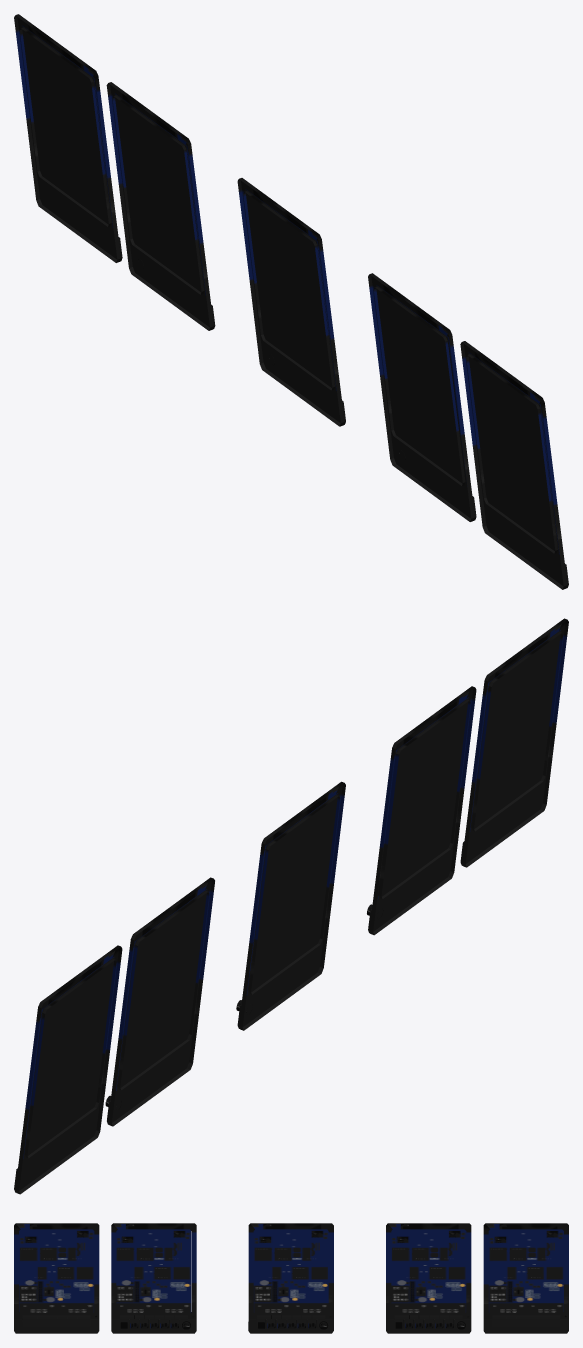
The model's file is screens.obj.
3 renders of one model, top to bottom at view 1: azimuth 30°, elevation 25°; view 2: azimuth 150°, elevation 25°; view 3: azimuth 270°, elevation 25°, orthographic. The views are drawn at different scales.
Parts seen in each view (by area): view 1: MFD1_Screen_Off_MFD1_Screen_Off.mesh, MFD2_Screen_Off_MFD2_Screen_Off.mesh, PFD1_Screen_Off_PFD1_Screen_Off.mesh, PFD2_Screen_Off_PFD2_Screen_Off.mesh, EICAS_Screen_Off_EICAS_Screen_Off.mesh, PFD1_Frame_PFD1_Frame.mesh, EICAS_Frame_EICAS_Frame.mesh, PFD2_Frame_PFD2_Frame.mesh, MFD2_Frame_MFD2_Frame.mesh, MFD1_Frame_MFD1_Frame.mesh; view 2: EICAS_Screen_Off_EICAS_Screen_Off.mesh, PFD2_Screen_Off_PFD2_Screen_Off.mesh, PFD1_Screen_Off_PFD1_Screen_Off.mesh, MFD2_Screen_Off_MFD2_Screen_Off.mesh, MFD1_Screen_Off_MFD1_Screen_Off.mesh, MFD1_Frame_MFD1_Frame.mesh, PFD1_Frame_PFD1_Frame.mesh, PFD2_Frame_PFD2_Frame.mesh, MFD2_Frame_MFD2_Frame.mesh, EICAS_Frame_EICAS_Frame.mesh; view 3: PFD2_Screen_PFD2_Screen.mesh, PFD1_Screen_PFD1_Screen.mesh, MFD2_Screen_MFD2_Screen.mesh, EICAS_Screen_EICAS_Screen.mesh, MFD1_Screen_MFD1_Screen.mesh, PFD1_Frame_PFD1_Frame.mesh, PFD2_Frame_PFD2_Frame.mesh, MFD2_Frame_MFD2_Frame.mesh, MFD1_Frame_MFD1_Frame.mesh, EICAS_Frame_EICAS_Frame.mesh.
Part boxes in pixels (x1,y1,x2,y2): MFD1_Screen_Off_MFD1_Screen_Off.mesh: (376,285,466,487); MFD2_Screen_Off_MFD2_Screen_Off.mesh: (114,93,205,295); PFD1_Screen_Off_PFD1_Screen_Off.mesh: (467,352,558,554); PFD2_Screen_Off_PFD2_Screen_Off.mesh: (21,25,112,227); EICAS_Screen_Off_EICAS_Screen_Off.mesh: (245,189,335,391); PFD1_Frame_PFD1_Frame.mesh: (460,341,568,589); EICAS_Frame_EICAS_Frame.mesh: (237,178,345,426); PFD2_Frame_PFD2_Frame.mesh: (14,14,122,262); MFD2_Frame_MFD2_Frame.mesh: (106,82,215,330); MFD1_Frame_MFD1_Frame.mesh: (368,273,476,521); EICAS_Screen_Off_EICAS_Screen_Off.mesh: (247,793,338,995); PFD2_Screen_Off_PFD2_Screen_Off.mesh: (24,957,114,1158); PFD1_Screen_Off_PFD1_Screen_Off.mesh: (470,630,561,832); MFD2_Screen_Off_MFD2_Screen_Off.mesh: (117,889,207,1090); MFD1_Screen_Off_MFD1_Screen_Off.mesh: (378,697,469,899); MFD1_Frame_MFD1_Frame.mesh: (368,686,476,935); PFD1_Frame_PFD1_Frame.mesh: (460,618,568,867); PFD2_Frame_PFD2_Frame.mesh: (14,945,122,1194); MFD2_Frame_MFD2_Frame.mesh: (107,877,214,1126); EICAS_Frame_EICAS_Frame.mesh: (237,781,345,1030); PFD2_Screen_PFD2_Screen.mesh: (488,1229,563,1314); PFD1_Screen_PFD1_Screen.mesh: (19,1229,94,1314); MFD2_Screen_MFD2_Screen.mesh: (391,1229,466,1314); EICAS_Screen_EICAS_Screen.mesh: (253,1229,328,1314); MFD1_Screen_MFD1_Screen.mesh: (116,1229,191,1314); PFD1_Frame_PFD1_Frame.mesh: (14,1223,99,1333); PFD2_Frame_PFD2_Frame.mesh: (483,1223,568,1333); MFD2_Frame_MFD2_Frame.mesh: (386,1223,471,1333); MFD1_Frame_MFD1_Frame.mesh: (111,1223,196,1333); EICAS_Frame_EICAS_Frame.mesh: (248,1223,333,1333).
Bounding box in the file's own units: 0.0463 × 0.2408 × 1.17.
